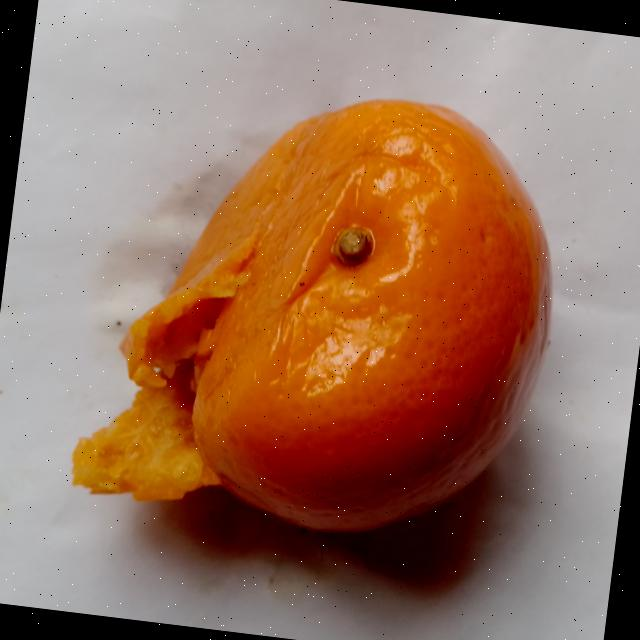Rotten: (66, 62, 578, 560)
